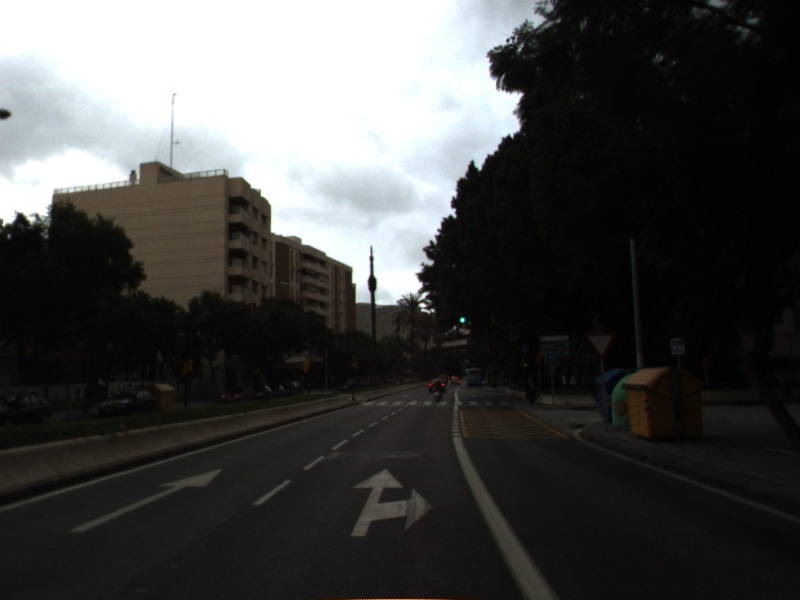STRAIGHT: (64, 465, 227, 536)
STRAIGHT_RIGHT: (348, 465, 437, 539)
